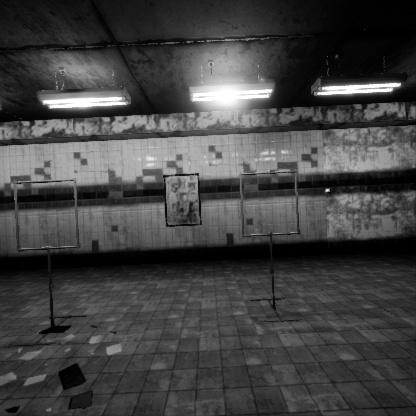gate: (14, 164, 85, 237), (239, 178, 304, 246)
